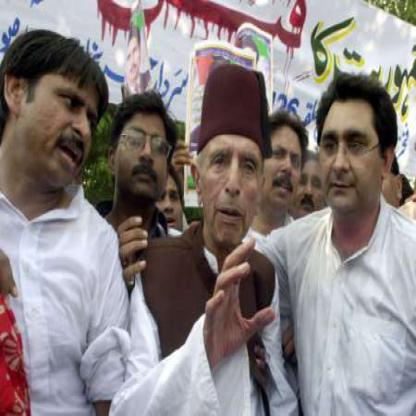face: (22, 45, 107, 191), (200, 94, 266, 249), (317, 86, 387, 218), (115, 100, 176, 203), (260, 119, 305, 214), (148, 164, 186, 242), (292, 155, 330, 227)
